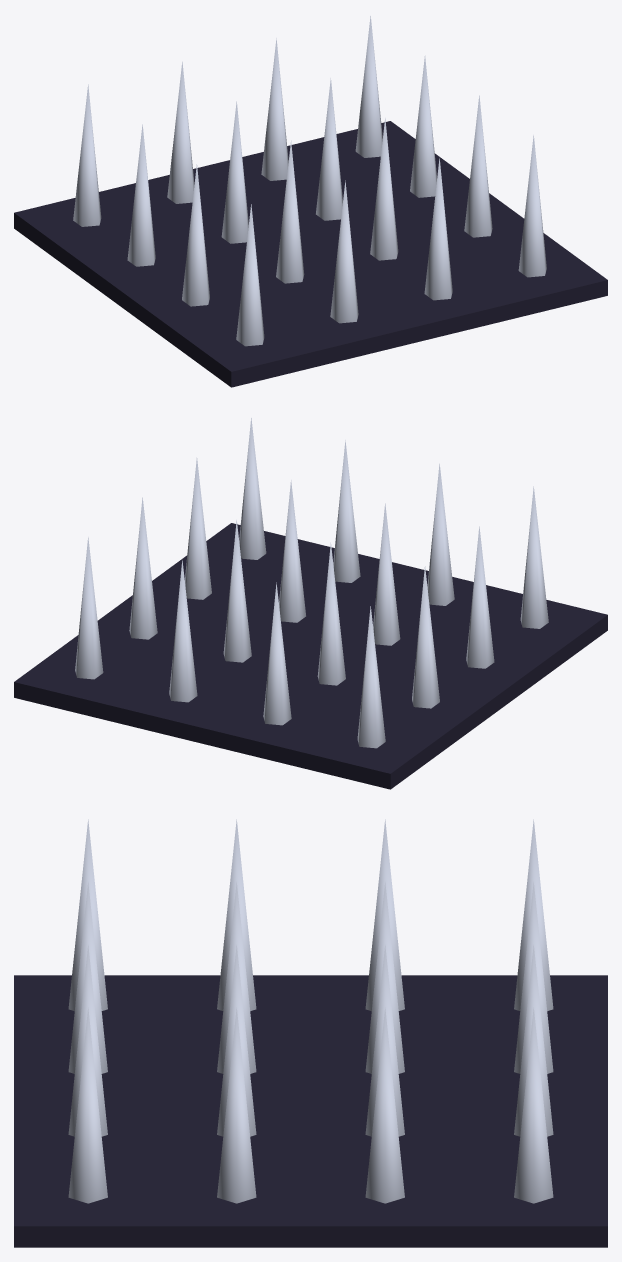
The model's file is dun_spikes.glb.
The picture shows the model from 3 angles, top to bottom: view 1: azimuth 30°, elevation 25°; view 2: azimuth 150°, elevation 25°; view 3: azimuth 270°, elevation 25°; orthographic projection. The views are drawn at different scales.
Visible parts, largest first — view 1: dun_spikes; view 2: dun_spikes; view 3: dun_spikes.
Part boxes in pixels (x1,y1,x2,y2): dun_spikes: (14, 16, 607, 387); dun_spikes: (14, 418, 607, 789); dun_spikes: (14, 819, 607, 1247).
Bounding box in the file's own units: 2 × 0.78 × 2.
